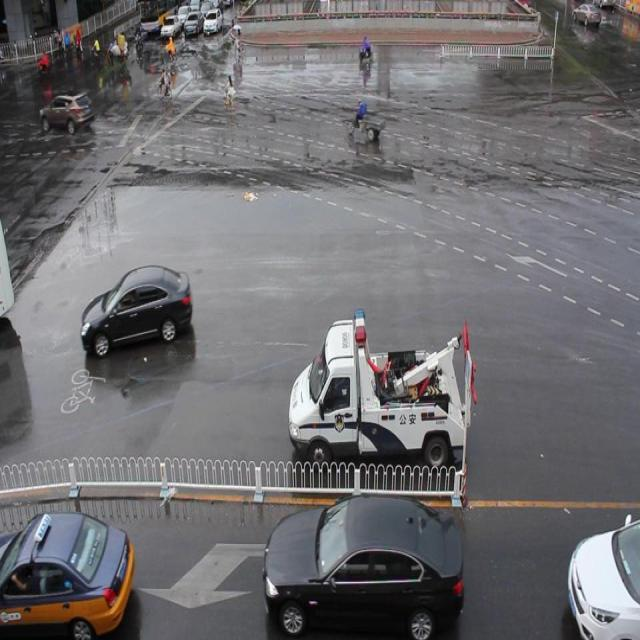bus: (289, 307, 476, 472)
car: (262, 493, 464, 640), (0, 509, 136, 640), (79, 266, 193, 353), (564, 516, 640, 640)
